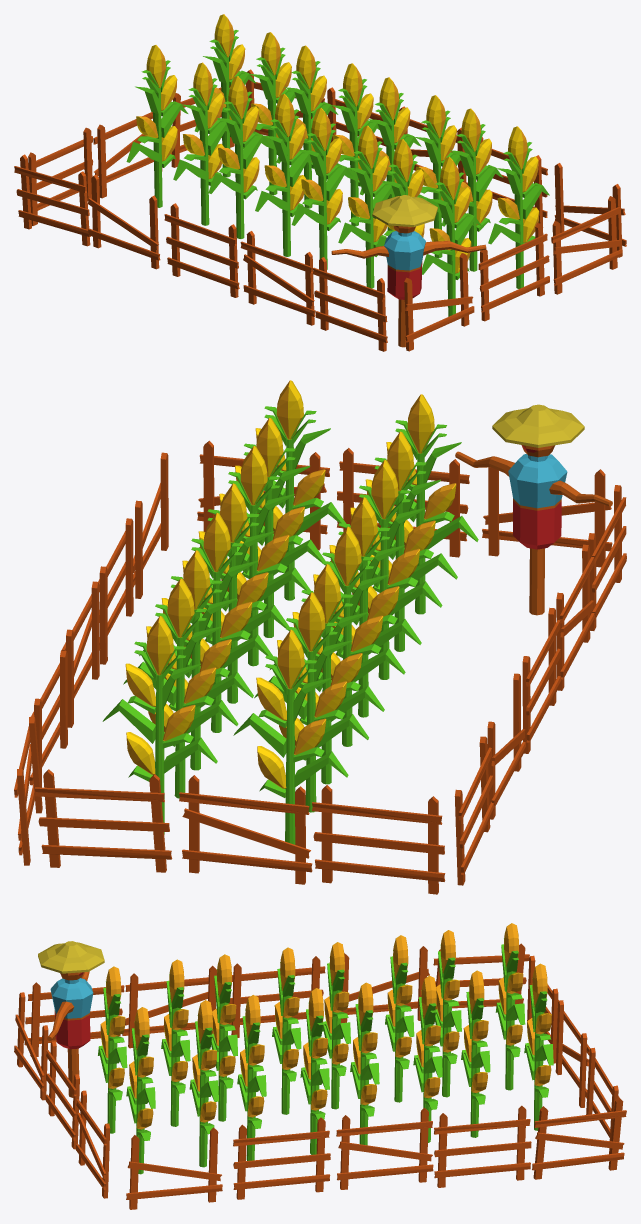
The model's file is crops-low-poly.obj.
3 renders of one model, top to bottom at view 1: azimuth 30°, elevation 25°; view 2: azimuth 150°, elevation 25°; view 3: azimuth 270°, elevation 25°, orthographic. The views are drawn at different scales.
Parts seen in each view (by area): view 1: Object_8, Object_13, Object_4, Object_3, Object_19, Object_11, Object_7, Object_16; view 2: Object_13, Object_8, Object_4, Object_3, Object_19, Object_11, Object_7, Object_16; view 3: Object_13, Object_8, Object_3, Object_4, Object_19, Object_7, Object_11, Object_16.
Boxes of the visible parts, x1=… form: Object_8: x1=126, y1=30, x2=549, y2=316; Object_13: x1=14, y1=69, x2=626, y2=351; Object_4: x1=136, y1=14, x2=538, y2=272; Object_3: x1=136, y1=14, x2=539, y2=273; Object_19: x1=372, y1=195, x2=437, y2=227; Object_11: x1=331, y1=226, x2=486, y2=347; Object_7: x1=384, y1=231, x2=425, y2=270; Object_16: x1=387, y1=263, x2=422, y2=299; Object_13: x1=14, y1=440, x2=626, y2=894; Object_8: x1=102, y1=406, x2=478, y2=844; Object_4: x1=126, y1=380, x2=456, y2=788; Object_3: x1=125, y1=380, x2=455, y2=788; Object_19: x1=492, y1=404, x2=584, y2=447; Object_11: x1=455, y1=445, x2=612, y2=615; Object_7: x1=508, y1=454, x2=567, y2=508; Object_16: x1=513, y1=445, x2=561, y2=549; Object_13: x1=14, y1=943, x2=626, y2=1209; Object_8: x1=98, y1=938, x2=553, y2=1174; Object_3: x1=100, y1=923, x2=551, y2=1129; Object_4: x1=100, y1=923, x2=550, y2=1127; Object_19: x1=38, y1=941, x2=104, y2=973; Object_7: x1=50, y1=978, x2=93, y2=1018; Object_11: x1=47, y1=971, x2=89, y2=1097; Object_16: x1=54, y1=972, x2=90, y2=1049.
Size of the model in its own units: 36.26 by 14.73 by 45.18.
